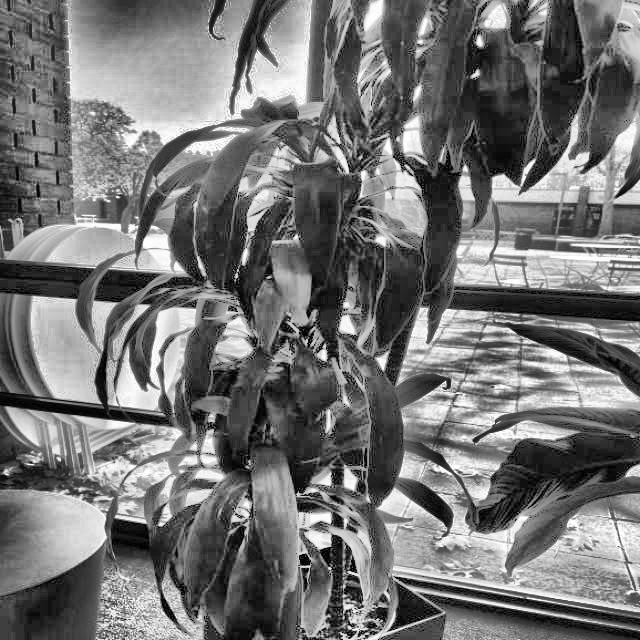plants: (129, 78, 438, 640), (208, 0, 640, 165)
